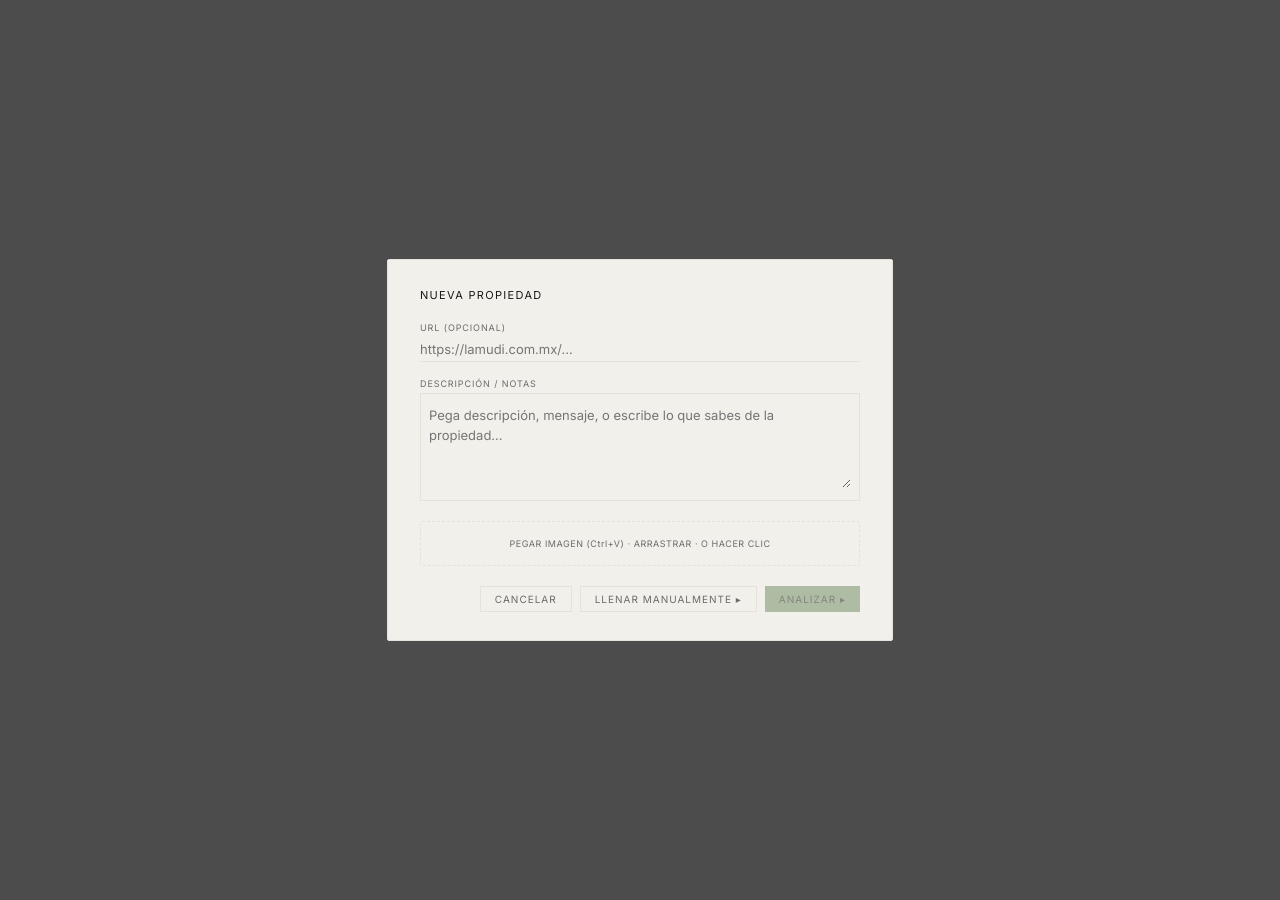
Test: SmartPropertyModal › el precio del anuncio es el precio de COMPRA, no el del terreno
Type "https://example.com/anuncio" into the field with placeholder "https://lamudi.com.mx/..." at (640, 349), box [420, 337, 860, 361]
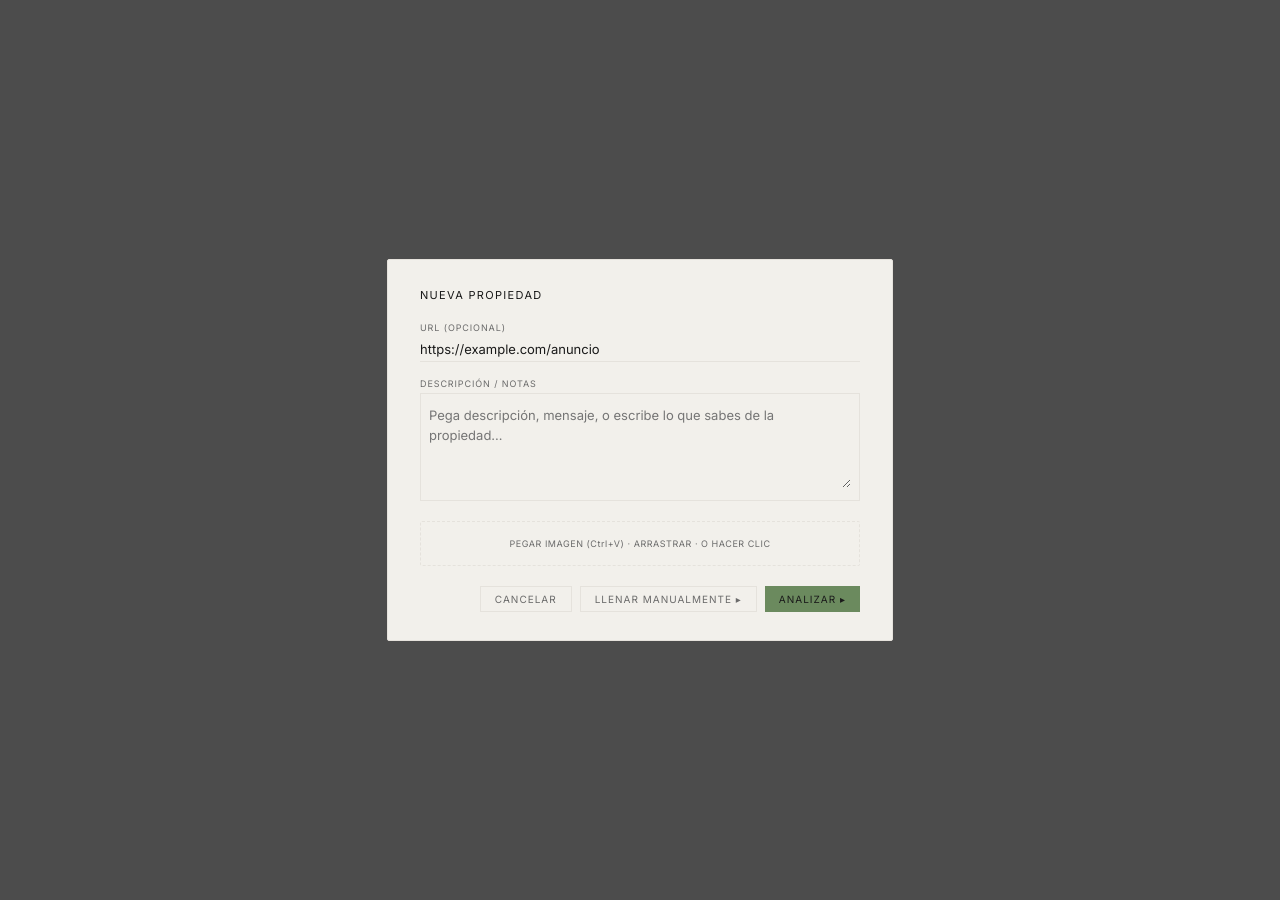
Click the button "ANALIZAR ▸" at (812, 599), box [765, 586, 860, 612]
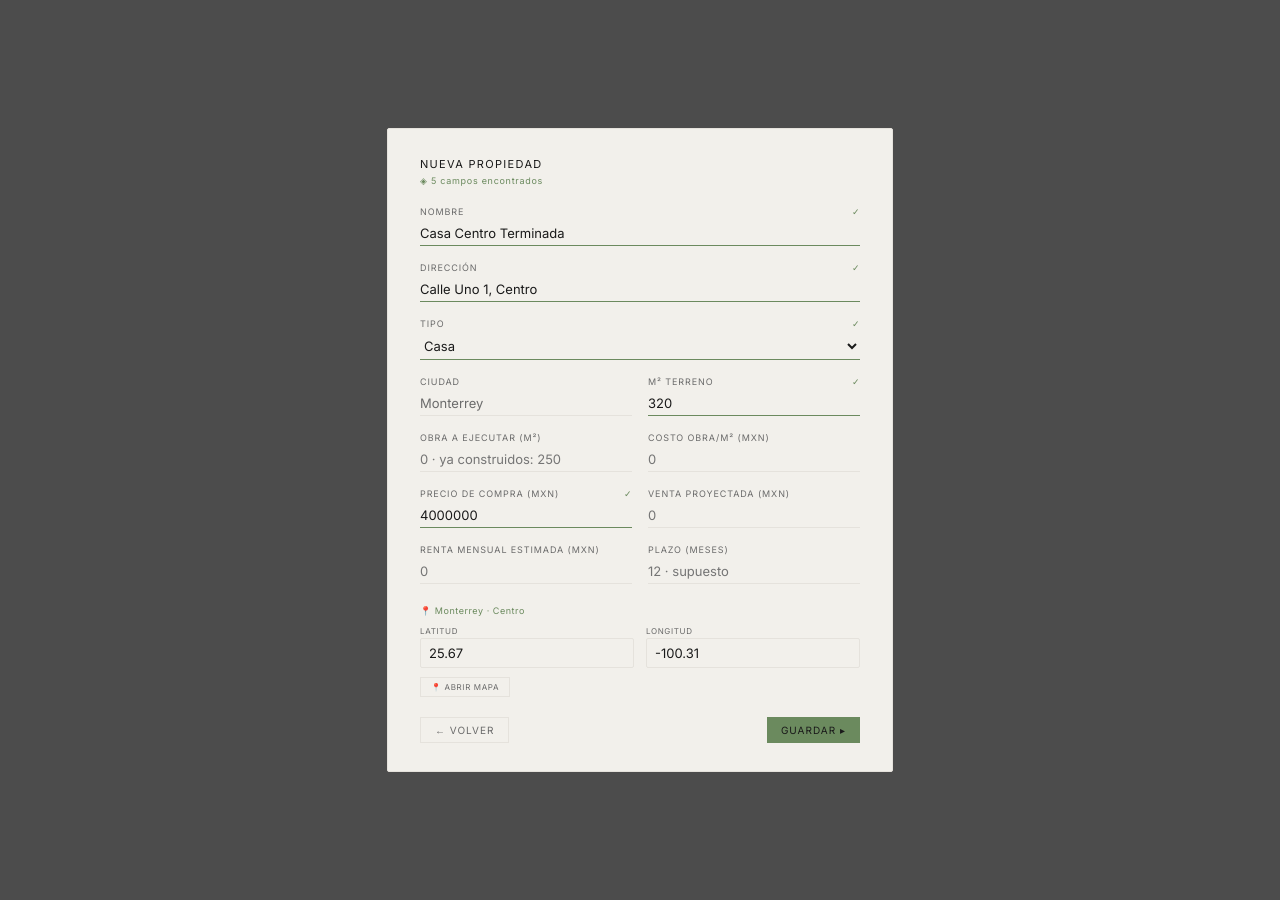
Result: the button "GUARDAR ▸" is shown at [767, 717, 860, 743]
Result: the number field below "Precio de compra (MXN)" holds "4000000" at [420, 503, 632, 527]
